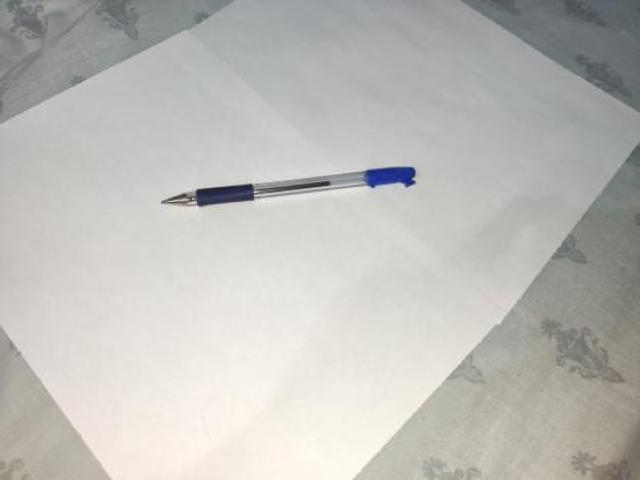PEN: (159, 160, 428, 209)
